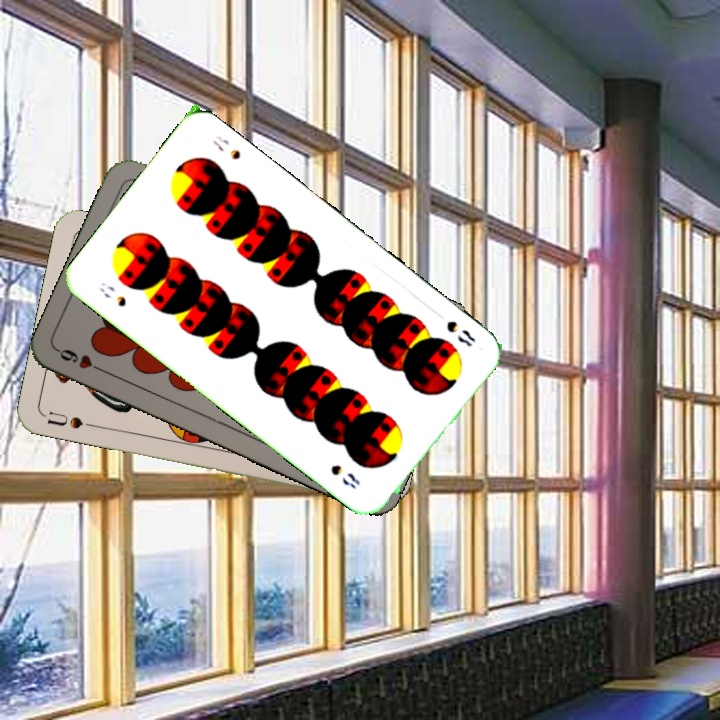H9: (53, 345, 109, 376)
S8: (442, 316, 478, 350), (95, 278, 129, 310)
SU: (41, 407, 99, 432)
